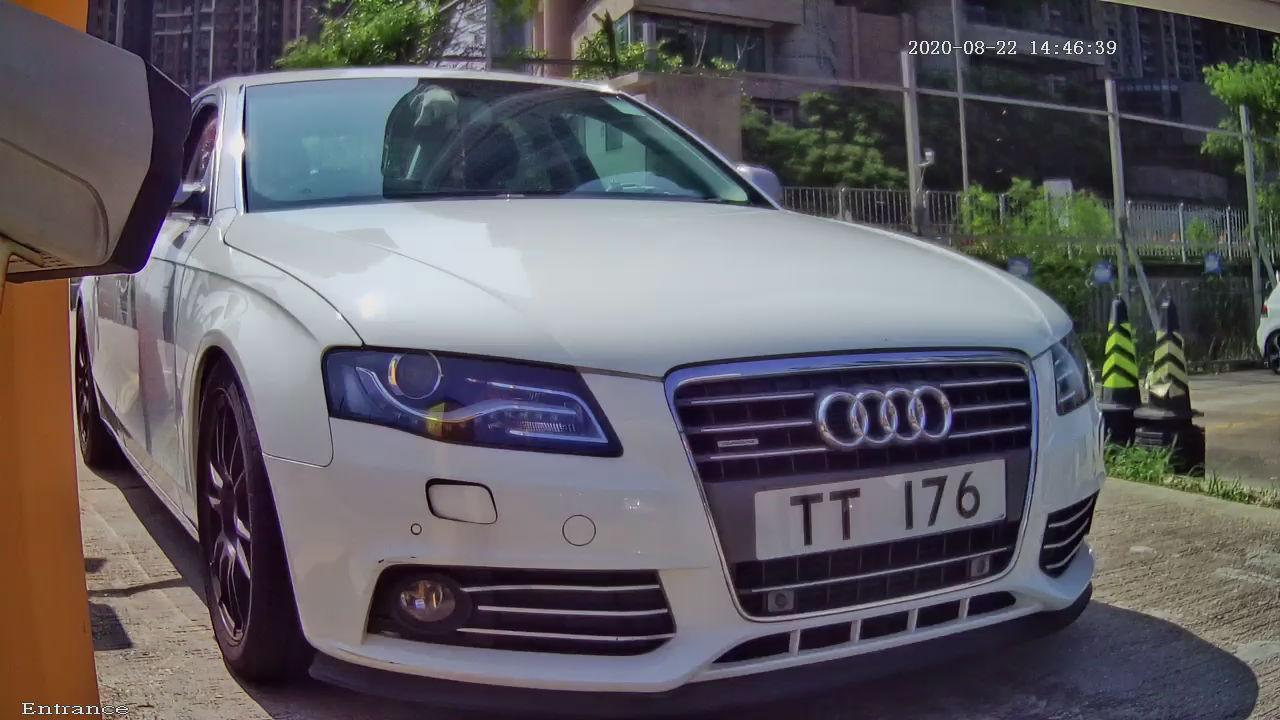License Plate: (680, 428, 1039, 586)
